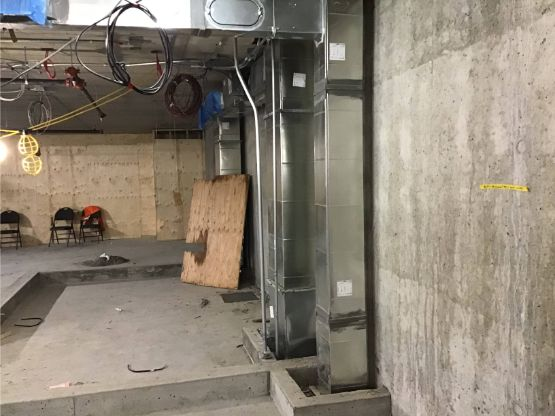Duct: (252, 1, 388, 400), (1, 1, 281, 44), (190, 80, 248, 180)
